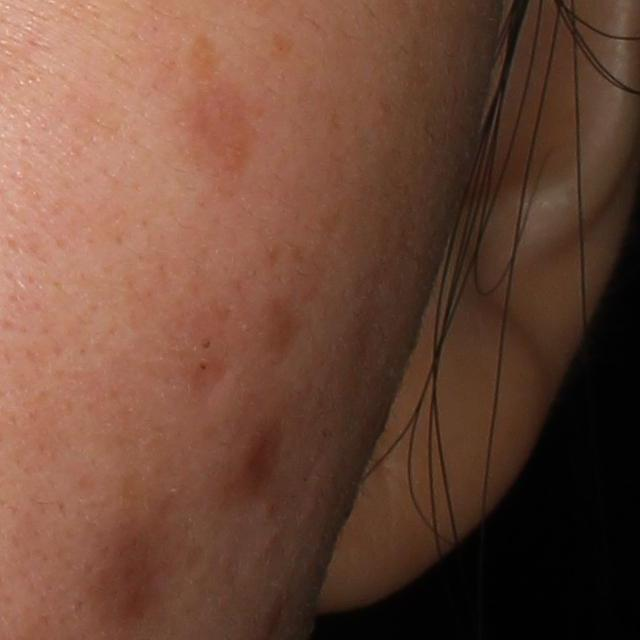atrophic_scar: (256, 299, 308, 379), (237, 421, 285, 501), (188, 353, 233, 408)
melasma: (178, 35, 254, 187)
